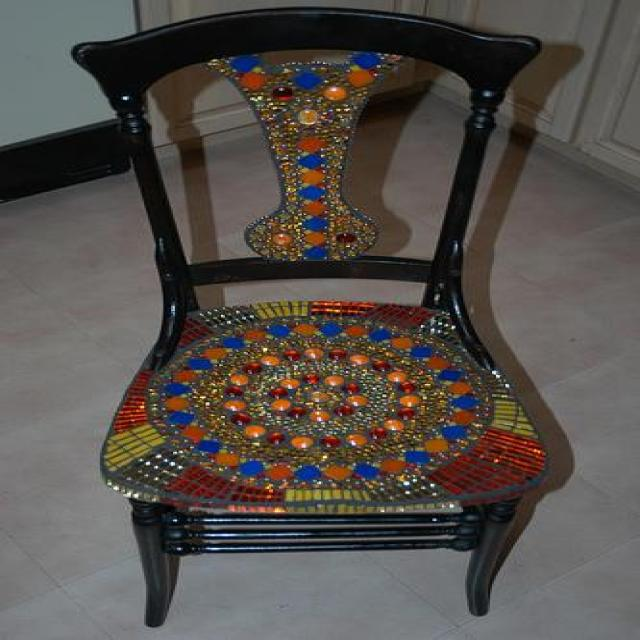chair: (64, 4, 554, 628)
